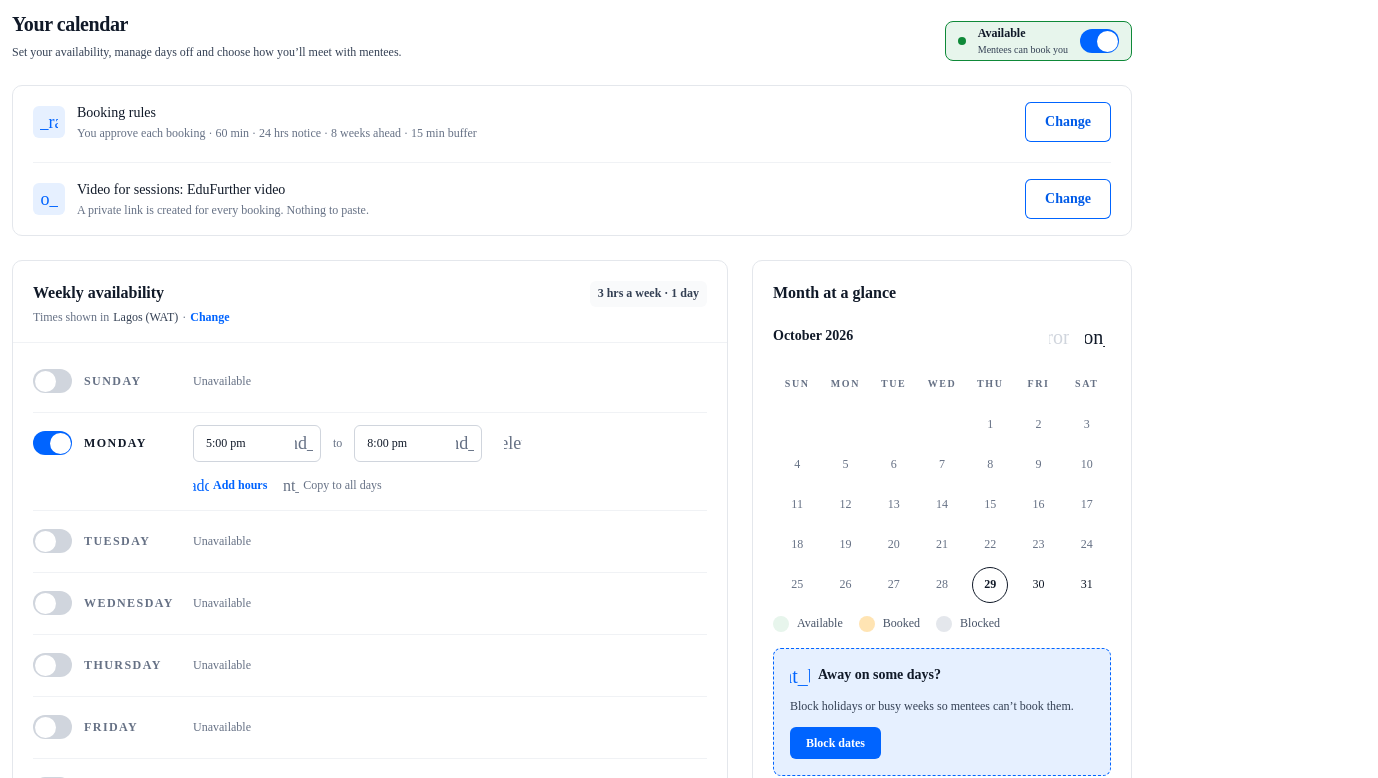
Scenario: CalendarScreen: busy and video › with unsaved hours, the switch asks to save or discard first
The width and height of the screenshot is (1378, 778).
Click the switch named "Tuesday" next to "Tuesday" at [52, 542], box [33,530,72,554]
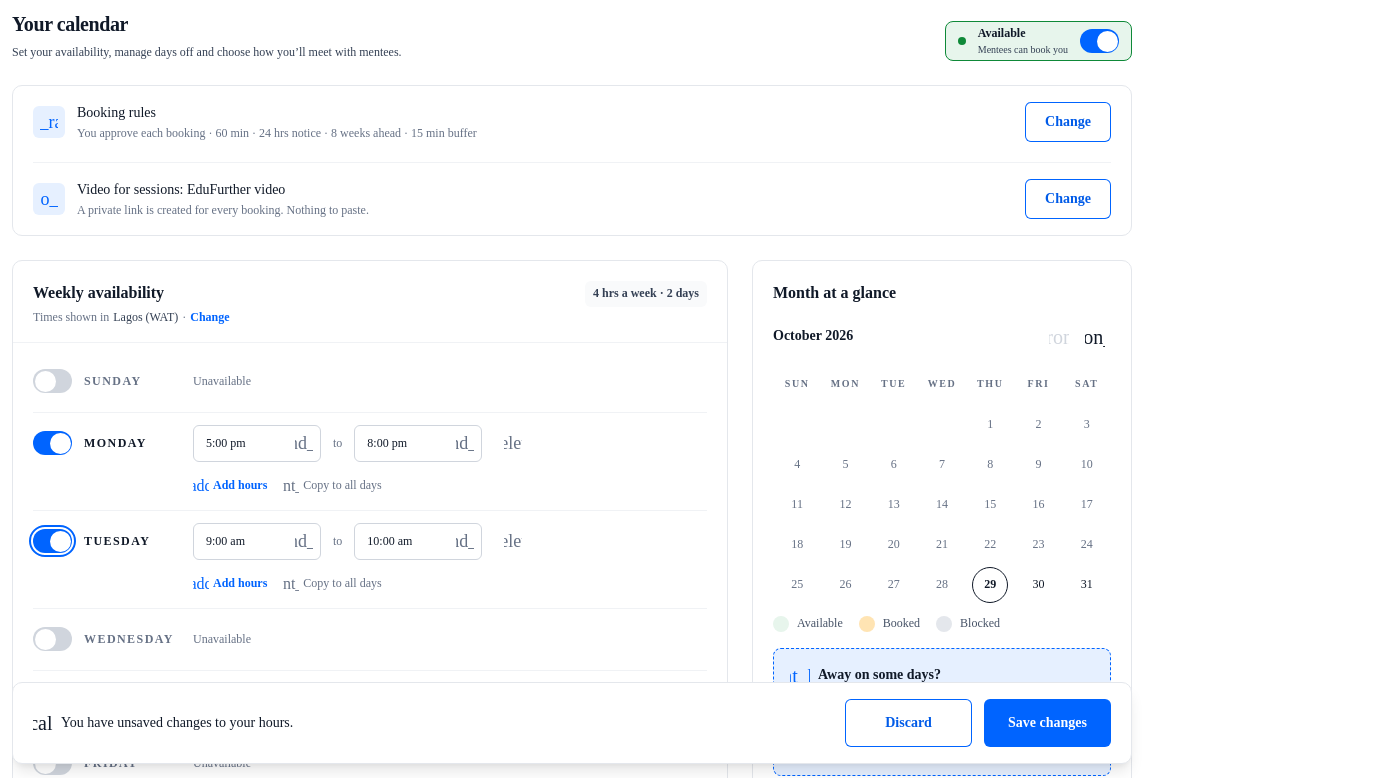
Click the switch named "Available for new bookings" at [1100, 41], box [1080,29,1119,53]
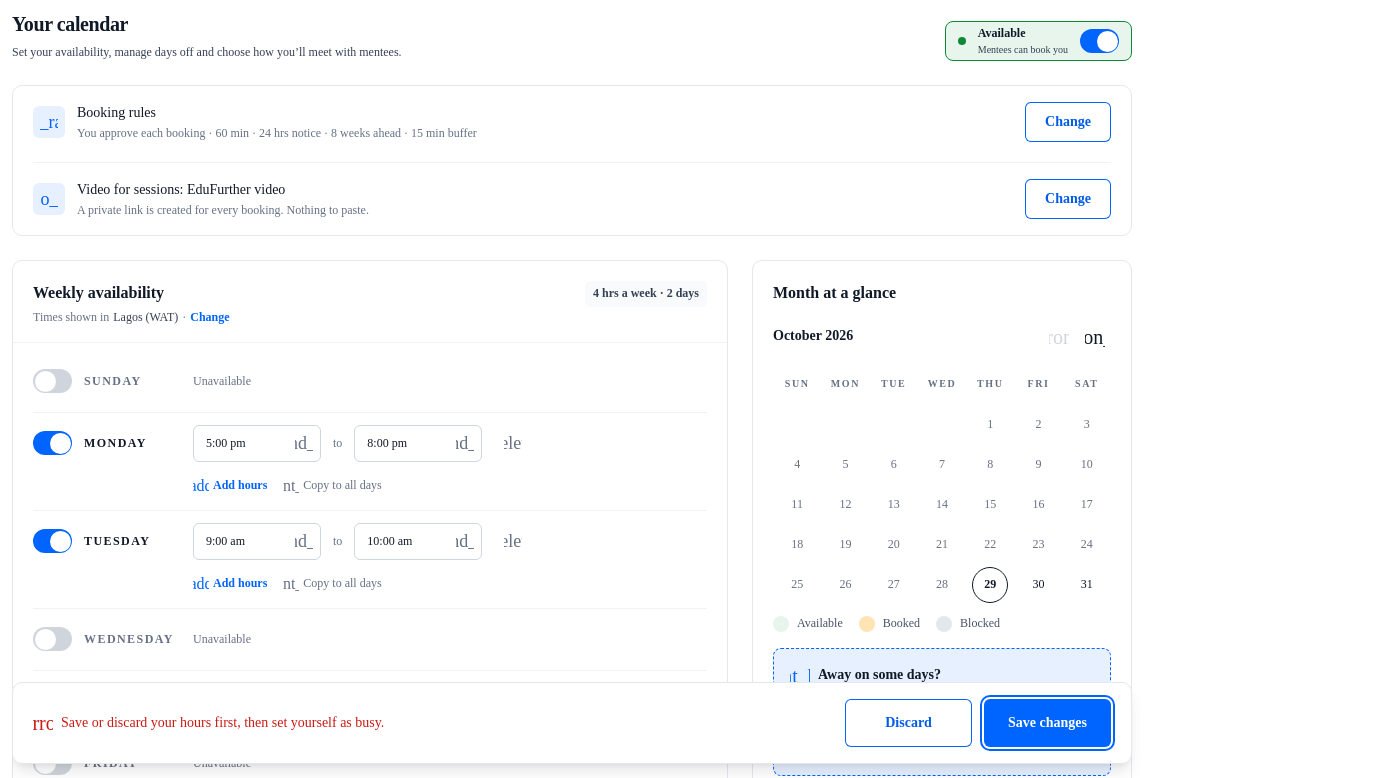
Result: the message shows "Save or discard your hours first, then set yourself as busy." at [61,715,384,730]
